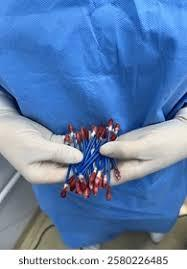Glove: (0, 91, 82, 183), (100, 107, 186, 184)
cotton: (0, 0, 186, 133)
